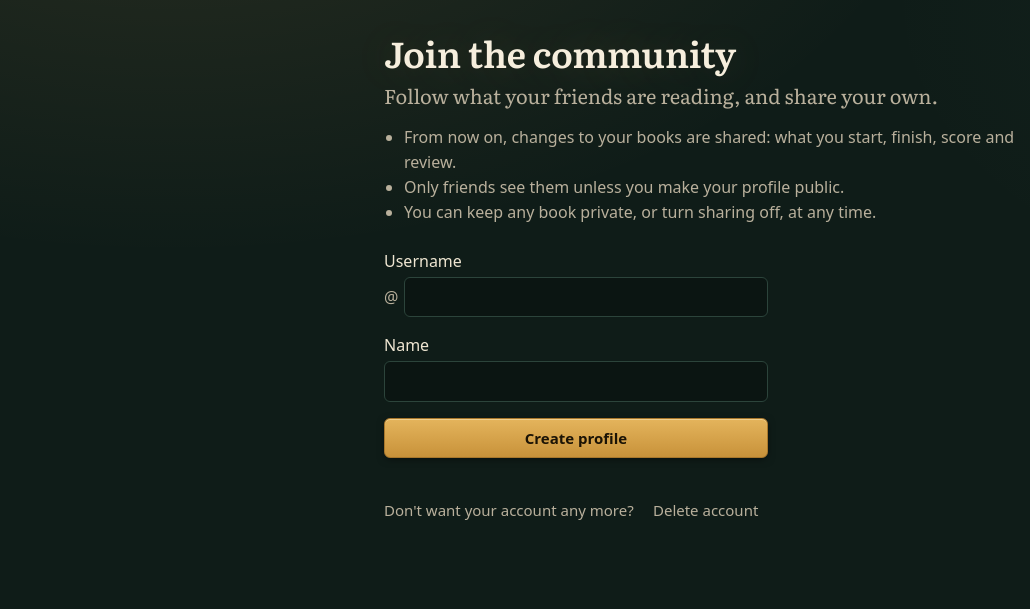
Test: joining › aTakenUsernameIsExplained
The width and height of the screenshot is (1030, 609).
In the field labelled "Username": coordinates (586, 297) [404,277,768,317], type "taken"
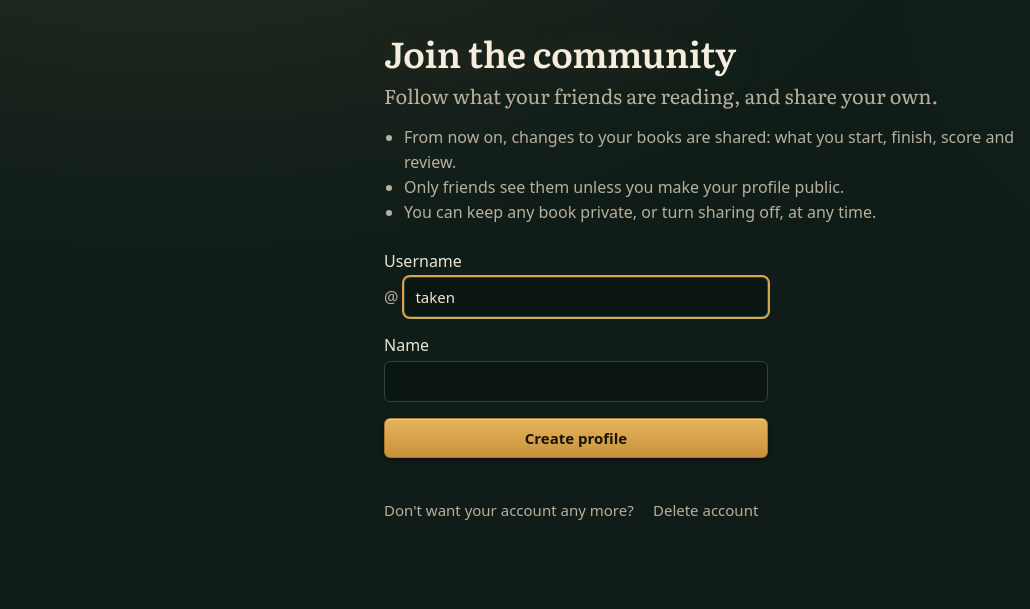
In the field labelled "Name": coordinates (576, 381) [384,361,768,402], type "Mario"
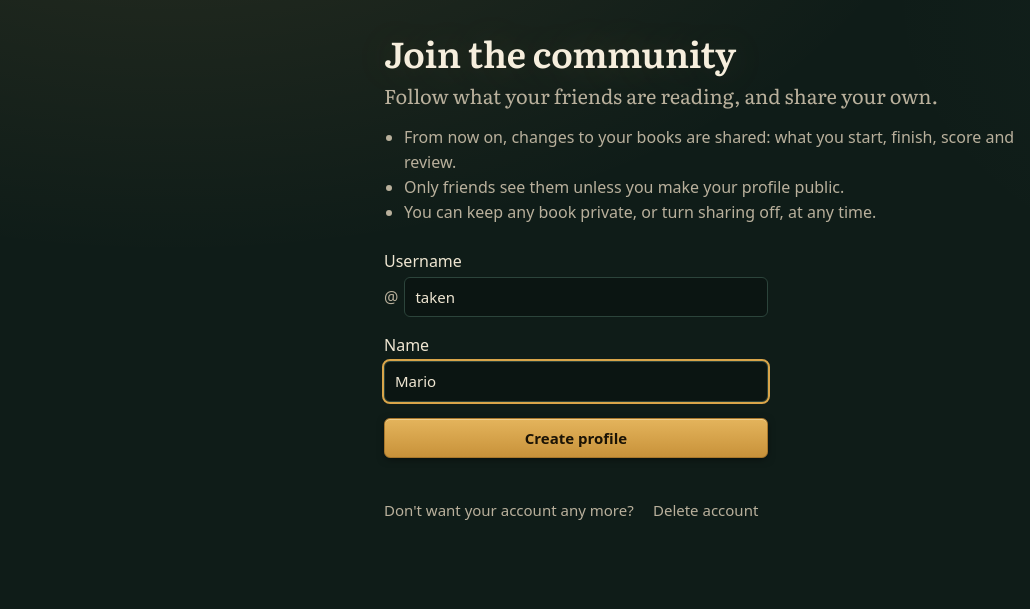
Click the button "Create profile": coordinates (576, 438) [384,418,768,458]
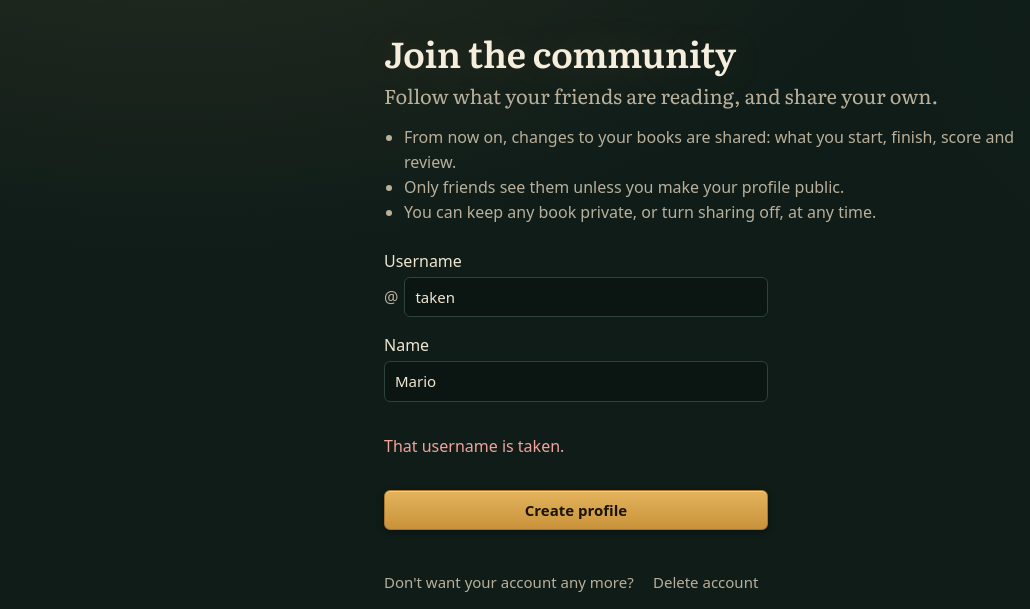
Expected: the message reads "That username is taken.", [384,435,564,457]
